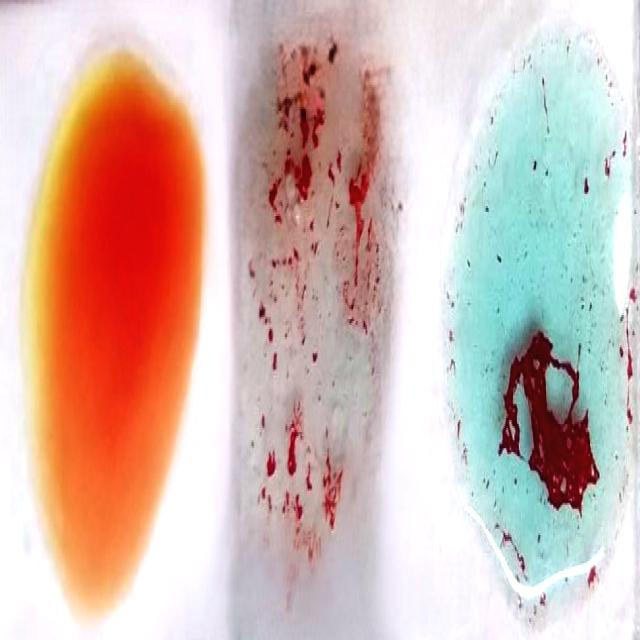A: (441, 24, 639, 608)
D: (232, 26, 394, 614)
